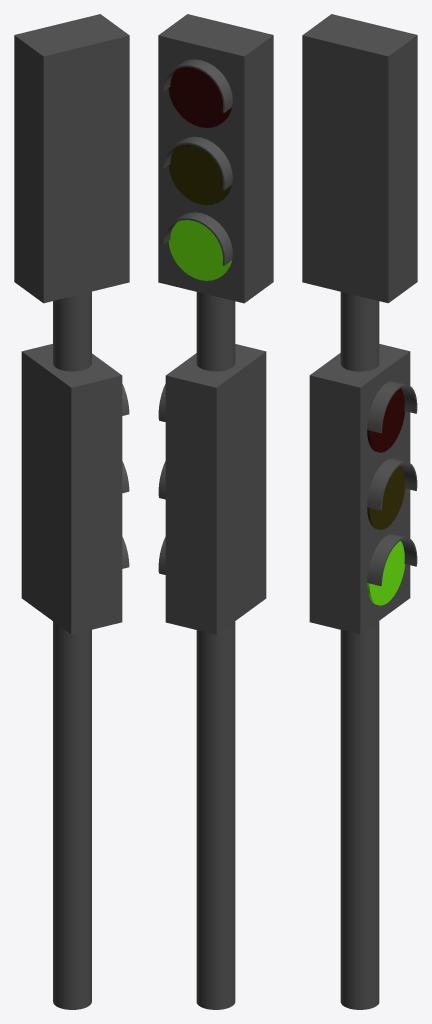
Rendered from TrafficLights.fbx.
3 renders of one model, left to right at view 1: azimuth 30°, elevation 25°; view 2: azimuth 150°, elevation 25°; view 3: azimuth 330°, elevation 25°, orthographic.
Visible parts, largest first — view 1: TrafficLights_Car, TrafficLights_People; view 2: TrafficLights_Car, TrafficLights_People, StreetLights_Yellow, StreetLights_Red, StreetLights_Green; view 3: TrafficLights_Car, TrafficLights_People, StreetLights_Red.001, StreetLights_Green.001, StreetsLights_Red.
Part boxes in pixels (x1,y1,x2,y2): TrafficLights_Car: [14, 14, 129, 1009]; TrafficLights_People: [21, 344, 129, 634]; TrafficLights_Car: [158, 14, 273, 1009]; TrafficLights_People: [158, 344, 266, 634]; StreetLights_Yellow: [168, 136, 232, 205]; StreetLights_Red: [168, 59, 232, 127]; StreetLights_Green: [168, 212, 232, 280]; TrafficLights_Car: [302, 14, 417, 1009]; TrafficLights_People: [309, 344, 417, 634]; StreetLights_Red.001: [367, 381, 405, 452]; StreetLights_Green.001: [367, 534, 405, 605]; StreetsLights_Red: [367, 458, 405, 529].
Bounding box in the file's own units: 28.89 × 310 × 28.89.
